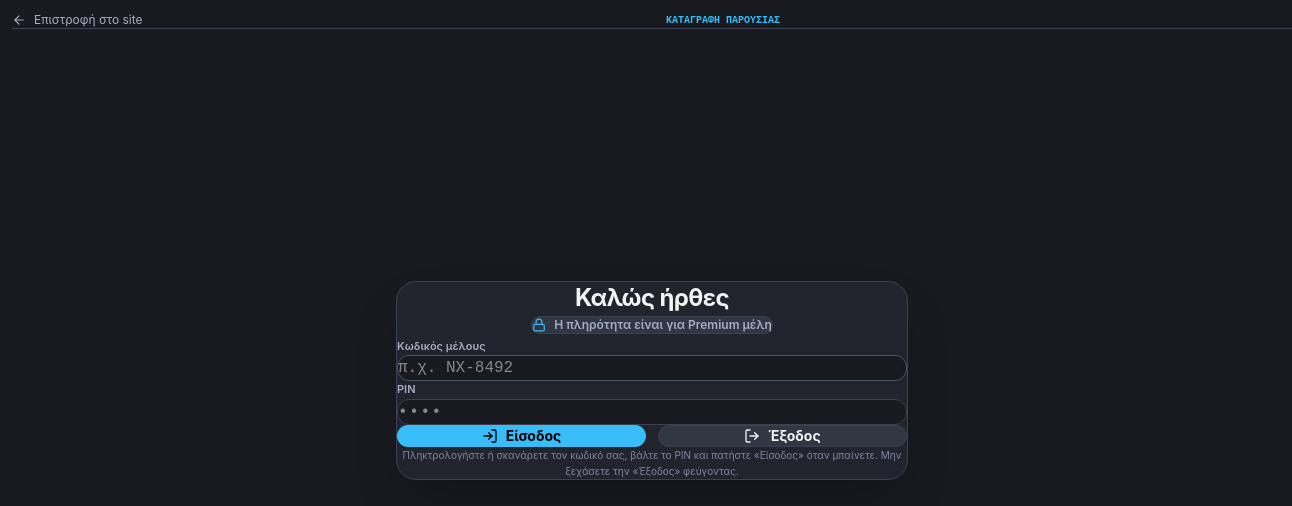
Test case: CheckInKiosk (the tablet at the entrance) › will not send a half-filled form to the server
What coordinates should you click on to do the following:
click the button "Είσοδος"
I would click on:
 (522, 436)
Its box is 397,425 -> 646,447.
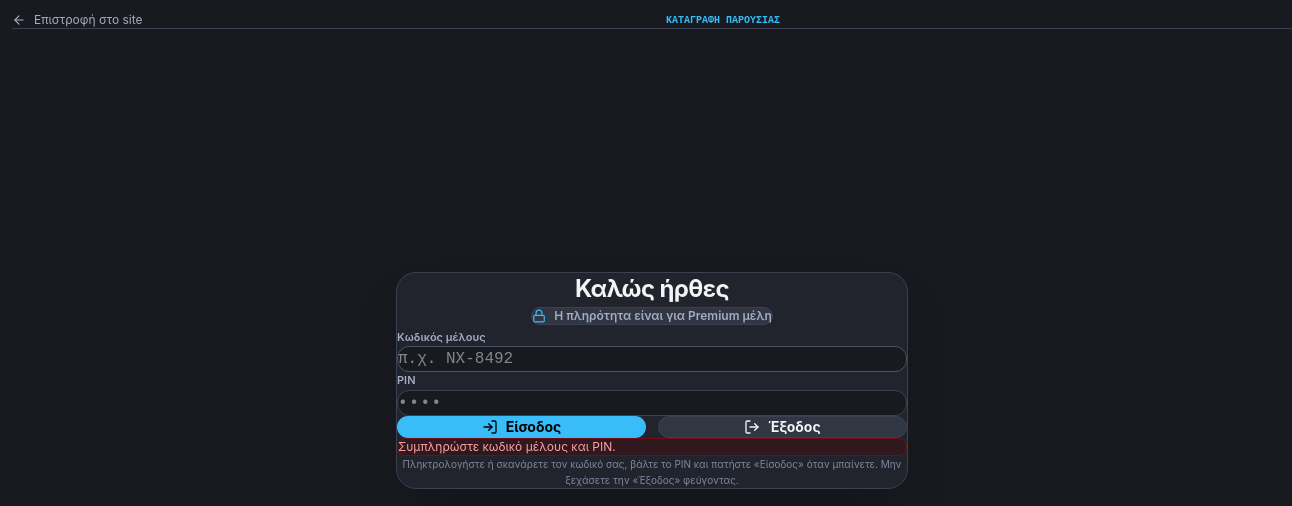
Now the message reads "Συμπληρώστε κωδικό μέλους και PIN.", box 398,439 -> 616,454
